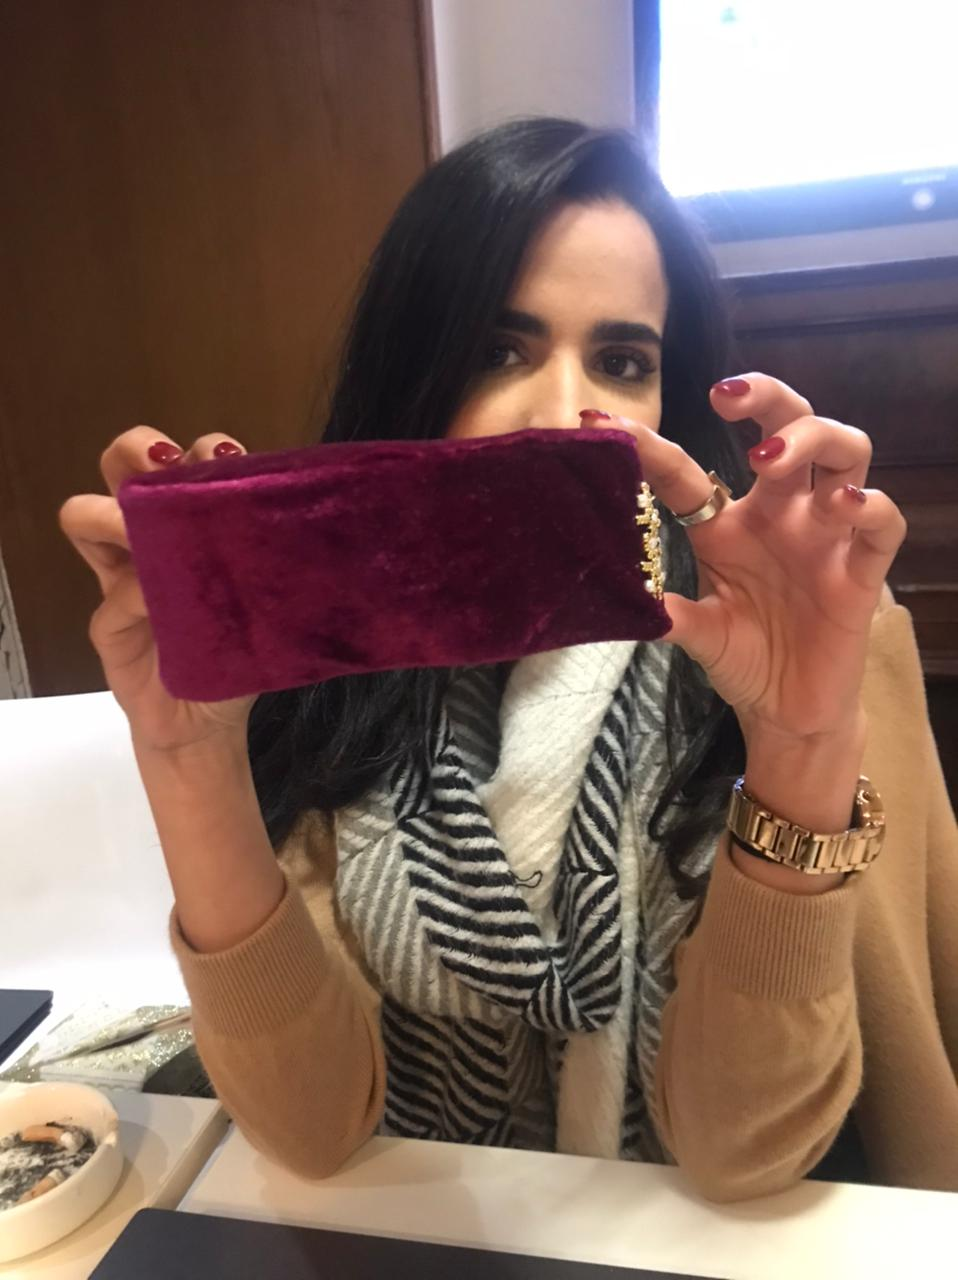chachia: (106, 407, 721, 688)
